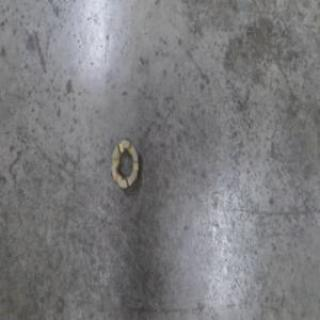Nuttrack_idkeyframe: (108, 133, 140, 190)
